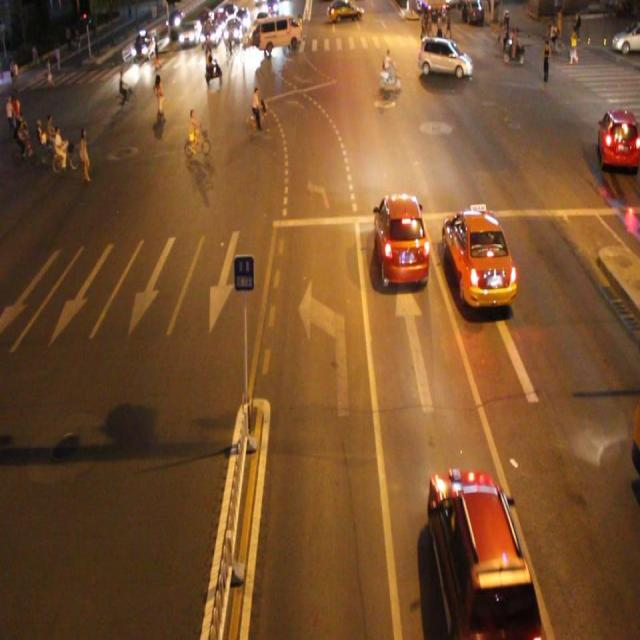car: (428, 467, 540, 640), (440, 204, 518, 308), (373, 192, 429, 288)
truck: (417, 36, 470, 78), (257, 16, 301, 49)
